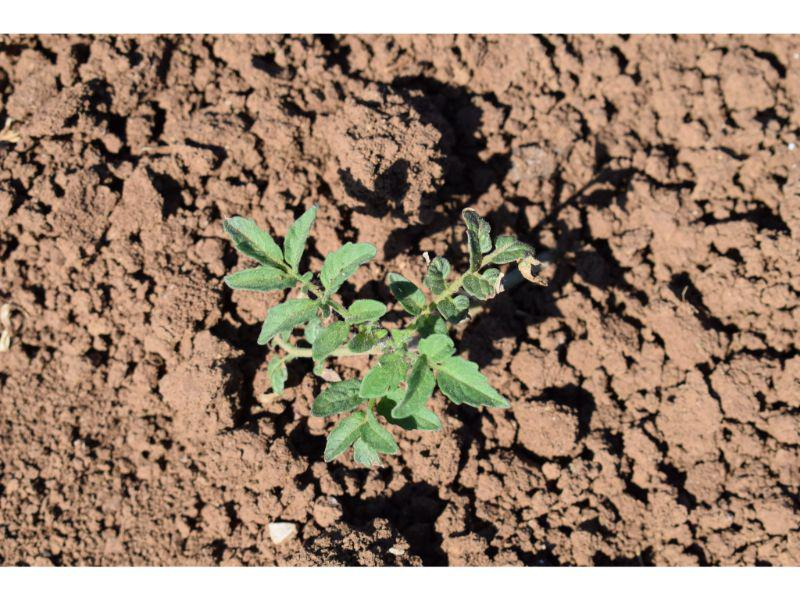tomato: (223, 204, 533, 471)
